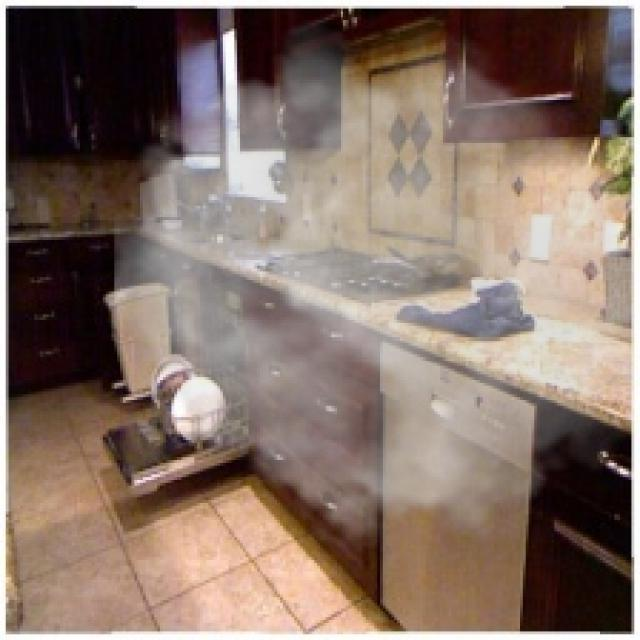Smoke: (115, 20, 634, 560)
